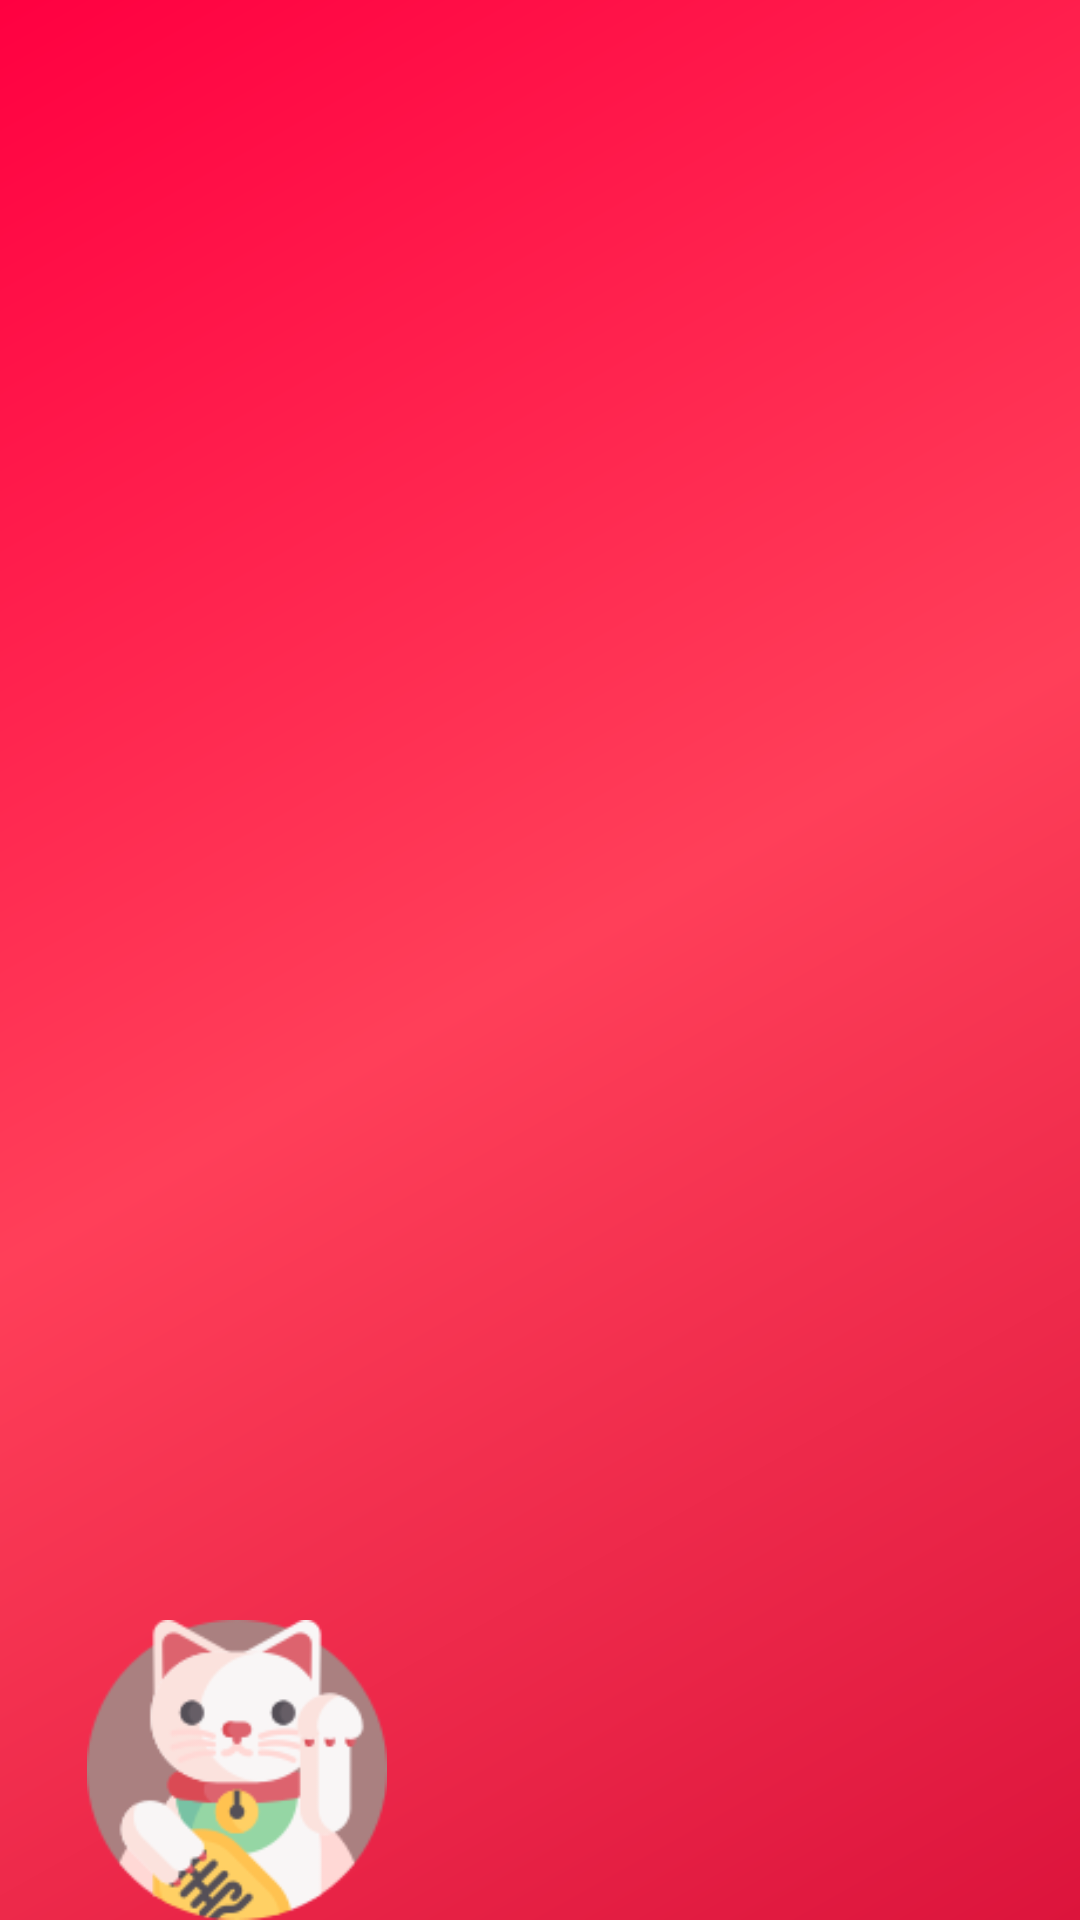

Screen size 1080px×1920px. Icon name, then its center in pixels as [x,y]:
gatinho: [237,1770]
